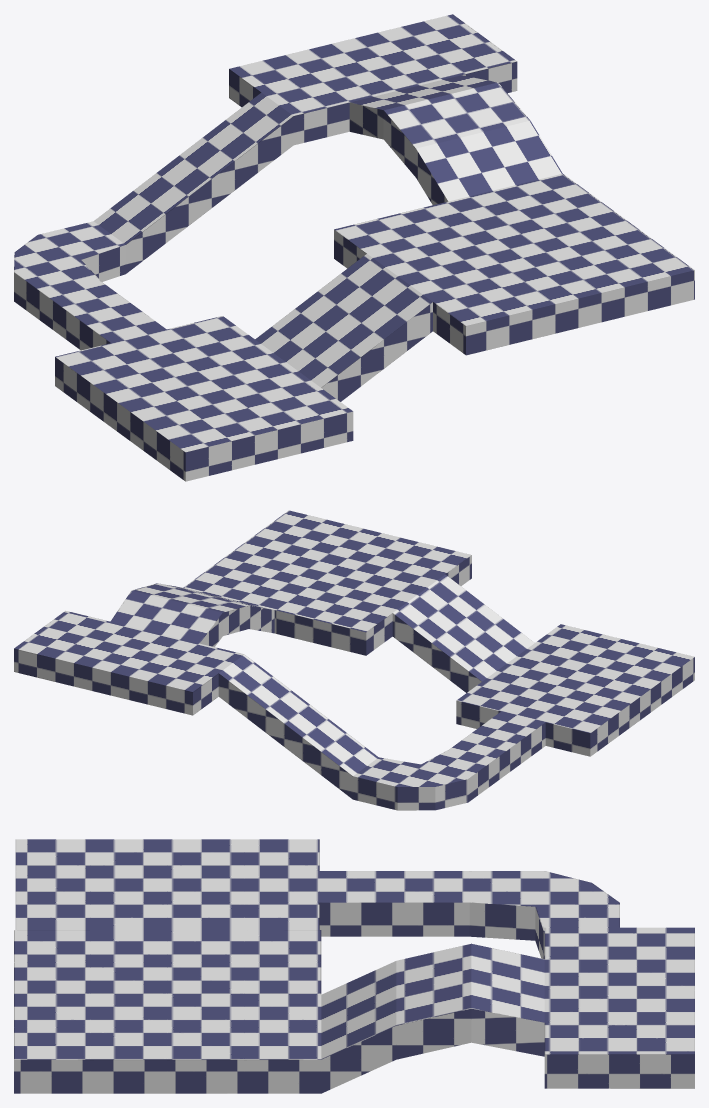
Rendered from level_demo.glb.
3 renders of one model, top to bottom at view 1: azimuth 30°, elevation 25°; view 2: azimuth 150°, elevation 25°; view 3: azimuth 270°, elevation 25°, orthographic. The views are drawn at different scales.
Parts seen in each view (by area): view 1: Cube.001; view 2: Cube.001; view 3: Cube.001.
Part boxes in pixels (x1,y1,x2,y2): Cube.001: (14, 14, 694, 481); Cube.001: (14, 510, 694, 810); Cube.001: (14, 839, 694, 1093).
Size of the model in its own units: 40 by 9 by 36.28.
1 material, 1 textured.
